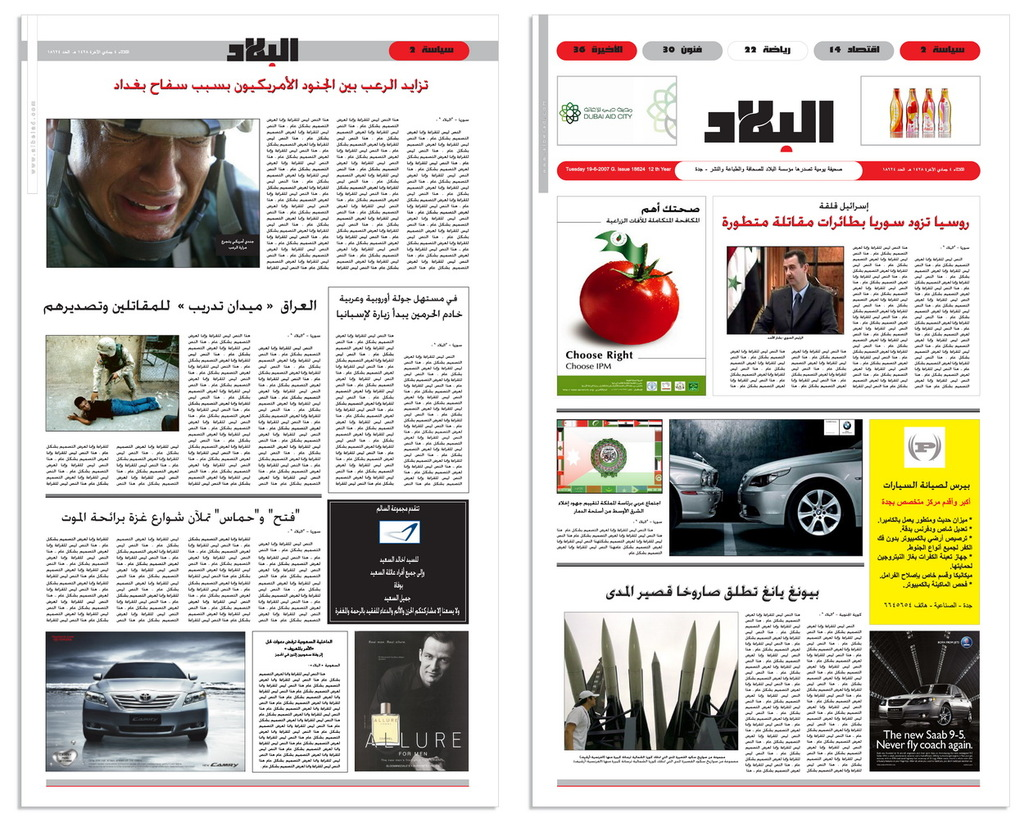Car: (743, 449, 869, 543), (85, 659, 209, 741), (666, 457, 721, 535), (876, 681, 972, 724)
